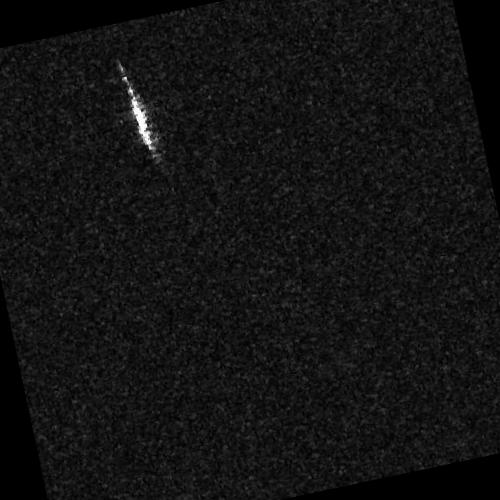ship: (121, 74, 155, 153)
